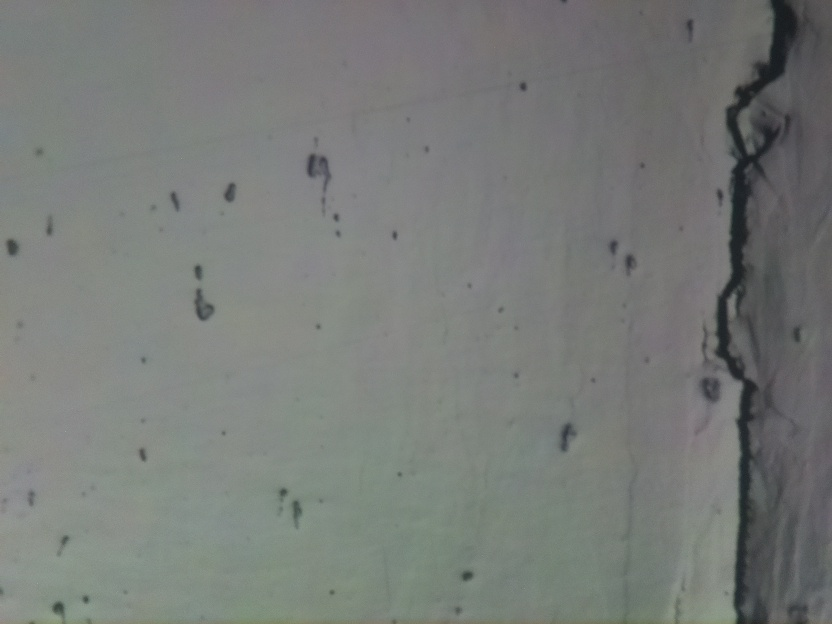crack: (726, 0, 797, 624)
